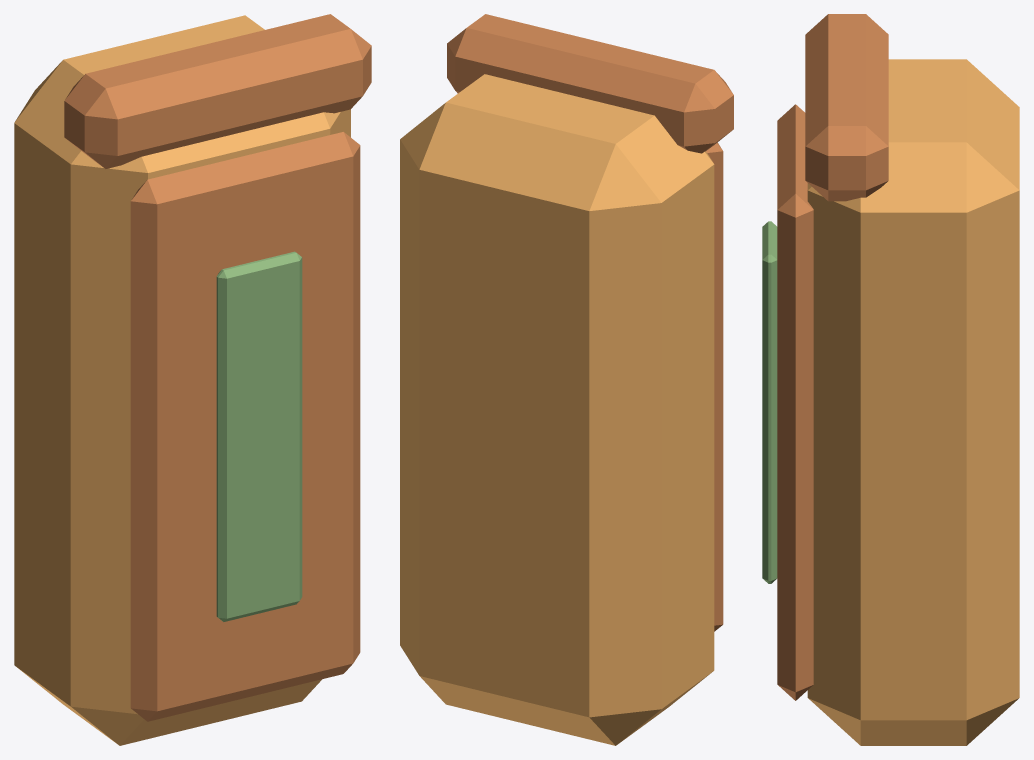
Rendered from FTF_Equipment_PumpkinLegArmor_Right.glb.
3 renders of one model, left to right at view 1: azimuth 30°, elevation 25°; view 2: azimuth 150°, elevation 25°; view 3: azimuth 270°, elevation 25°, orthographic. The views are drawn at different scales.
Visible parts, largest first — view 1: ShinOuterRim_R, ShinShell_R, ShinAccent_R, ShinTopCap_R; view 2: ShinShell_R, ShinTopCap_R, ShinOuterRim_R; view 3: ShinShell_R, ShinOuterRim_R, ShinTopCap_R, ShinAccent_R.
Boxes of the visible parts, x1,y1,x2,y2 form: ShinOuterRim_R: (130, 132, 360, 721); ShinShell_R: (14, 15, 350, 745); ShinAccent_R: (216, 251, 302, 621); ShinTopCap_R: (64, 14, 371, 168); ShinShell_R: (400, 74, 714, 745); ShinTopCap_R: (447, 14, 733, 153); ShinOuterRim_R: (706, 142, 723, 631); ShinShell_R: (807, 59, 1019, 745); ShinOuterRim_R: (777, 104, 813, 700); ShinTopCap_R: (805, 14, 888, 201); ShinAccent_R: (762, 221, 777, 583).
Bounding box in the file's own units: 0.205 × 0.4625 × 0.17.
